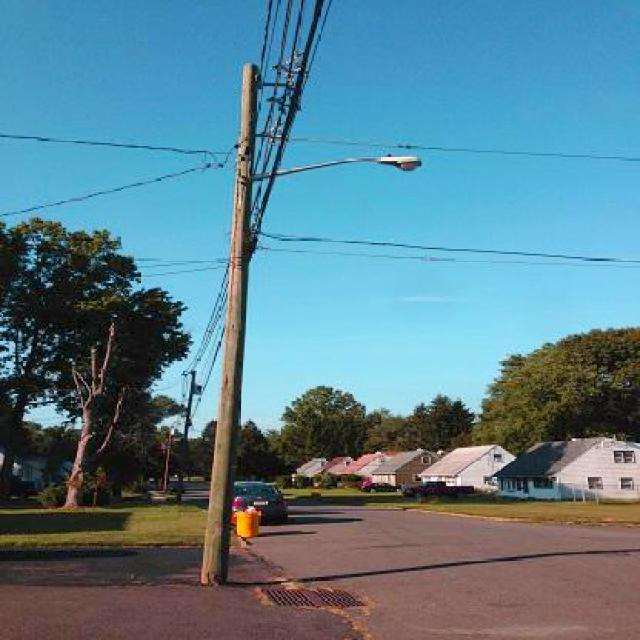pole: (200, 69, 260, 588)
wire: (254, 1, 325, 228), (252, 229, 636, 268), (0, 154, 227, 218), (254, 131, 640, 159), (253, 1, 306, 202), (252, 0, 295, 170), (0, 131, 229, 159), (296, 0, 335, 120), (262, 0, 281, 89), (259, 1, 272, 68)
